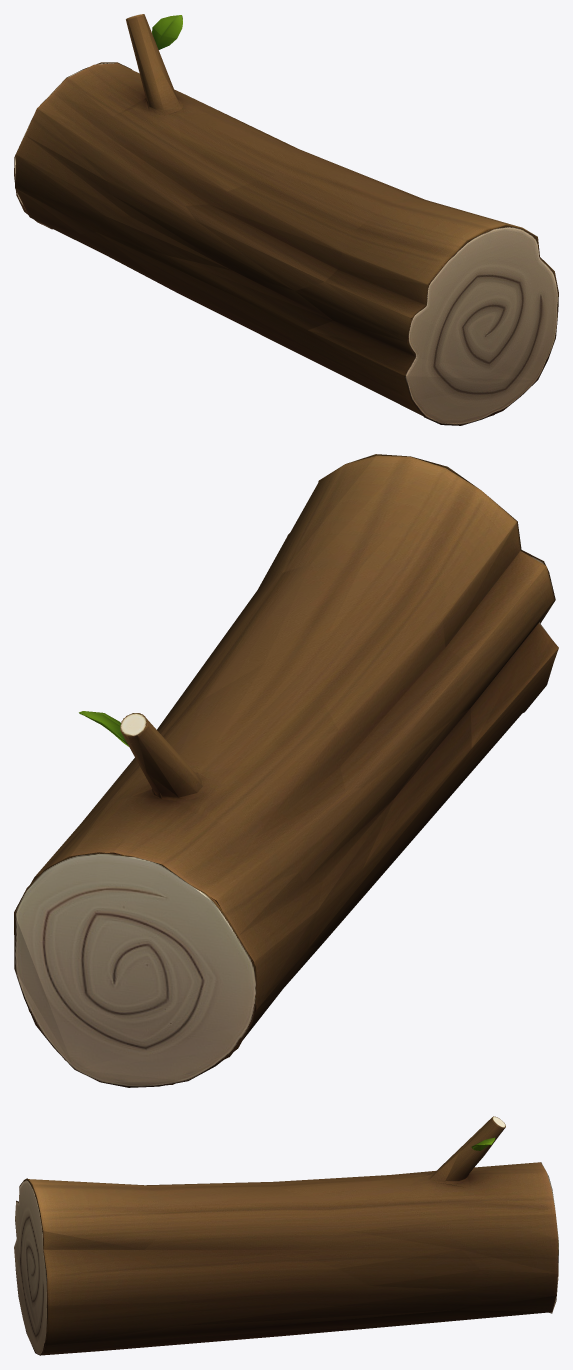
File: Bark03.fbx
The picture shows the model from 3 angles, top to bottom: view 1: azimuth 30°, elevation 25°; view 2: azimuth 150°, elevation 25°; view 3: azimuth 270°, elevation 25°; orthographic projection. The views are drawn at different scales.
Visible parts, largest first — view 1: Bark03; view 2: Bark03; view 3: Bark03.
Boxes of the visible parts, x1,y1,x2,y2 form: Bark03: (14,14,558,425); Bark03: (14,454,558,1087); Bark03: (14,1116,558,1355).
Size of the model in its own units: 540 by 449 by 1119.
Materials: 1 (1 with a texture image).
